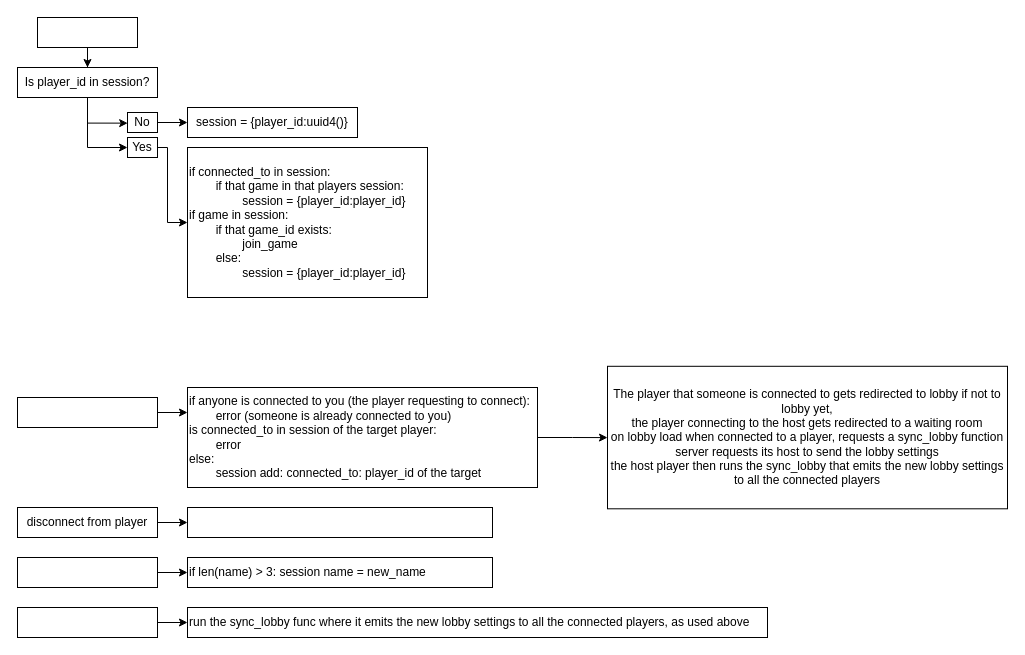
Some shapes in this 1025 by 655 pixel diagram are drawn without their labels. Here are the shapes that lost their labels. From the top down, the box of each, then its label:
(36, 16, 138, 48): Player connects
(16, 396, 158, 428): connect to player
(186, 506, 492, 538): session connected_to = null
(16, 556, 158, 588): Chnage name
(16, 606, 158, 638): edit lobby
